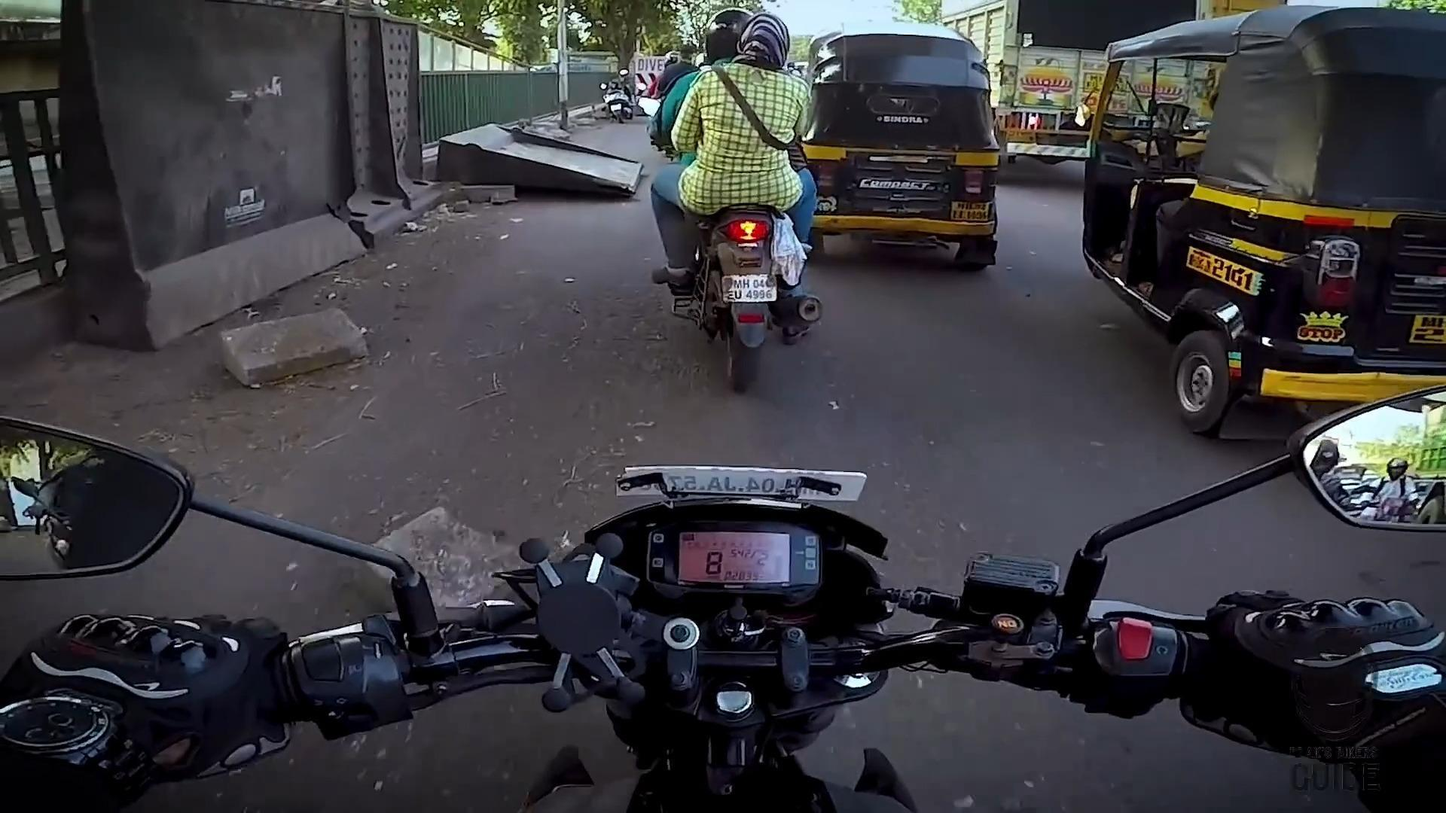Helmet: (699, 0, 763, 70)
bike: (649, 121, 822, 396)
no-helmet: (735, 6, 794, 74)
number-plate: (720, 271, 780, 305)
rider: (657, 8, 819, 288)
